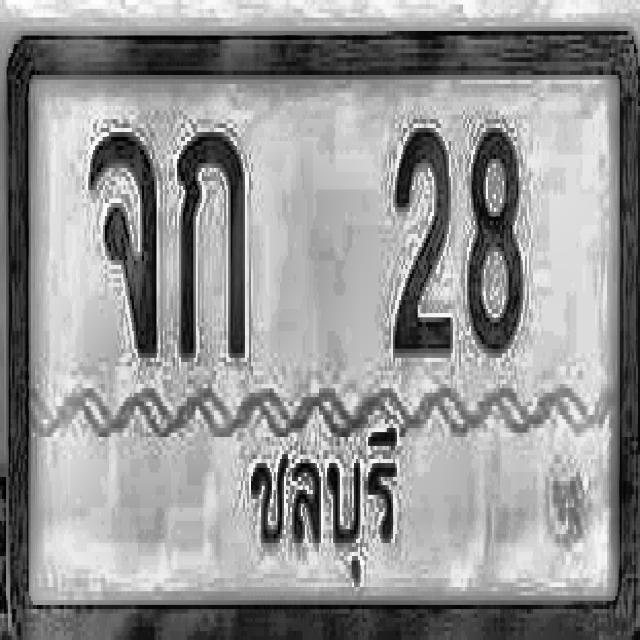license-plate: (6, 27, 640, 636)
